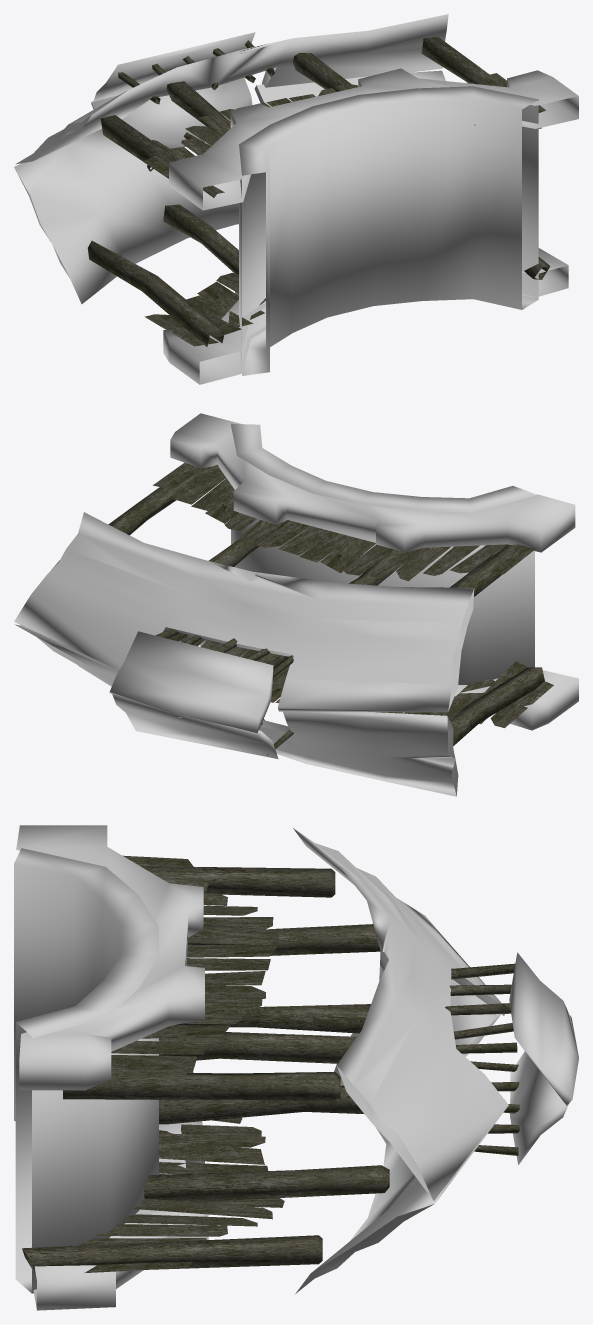
The model's file is TI_Small_Bridge_01_LOD_02.fbx.
3 renders of one model, top to bottom at view 1: azimuth 30°, elevation 25°; view 2: azimuth 150°, elevation 25°; view 3: azimuth 270°, elevation 25°, orthographic. The views are drawn at different scales.
Visible parts, largest first — view 1: TI_Small_Bridge_Stone_01_LOD_02, TI_Small_Bridge_Roof_01_LOD_02, TI_Small_Bridge_Wood_01_LOD_02; view 2: TI_Small_Bridge_Roof_01_LOD_02, TI_Small_Bridge_Stone_01_LOD_02, TI_Small_Bridge_Wood_01_LOD_02; view 3: TI_Small_Bridge_Wood_01_LOD_02, TI_Small_Bridge_Stone_01_LOD_02, TI_Small_Bridge_Roof_01_LOD_02.
Boxes of the visible parts, <box> form: TI_Small_Bridge_Stone_01_LOD_02: <box>163,68,578,384</box>; TI_Small_Bridge_Roof_01_LOD_02: <box>14,14,448,303</box>; TI_Small_Bridge_Wood_01_LOD_02: <box>87,37,550,346</box>; TI_Small_Bridge_Roof_01_LOD_02: <box>14,512,474,796</box>; TI_Small_Bridge_Stone_01_LOD_02: <box>170,413,578,730</box>; TI_Small_Bridge_Wood_01_LOD_02: <box>108,462,553,755</box>; TI_Small_Bridge_Wood_01_LOD_02: <box>22,855,519,1273</box>; TI_Small_Bridge_Stone_01_LOD_02: <box>14,825,208,1310</box>; TI_Small_Bridge_Roof_01_LOD_02: <box>293,828,578,1293</box>.
Bounding box in the file's own units: 9.11 × 4.16 × 8.04.
